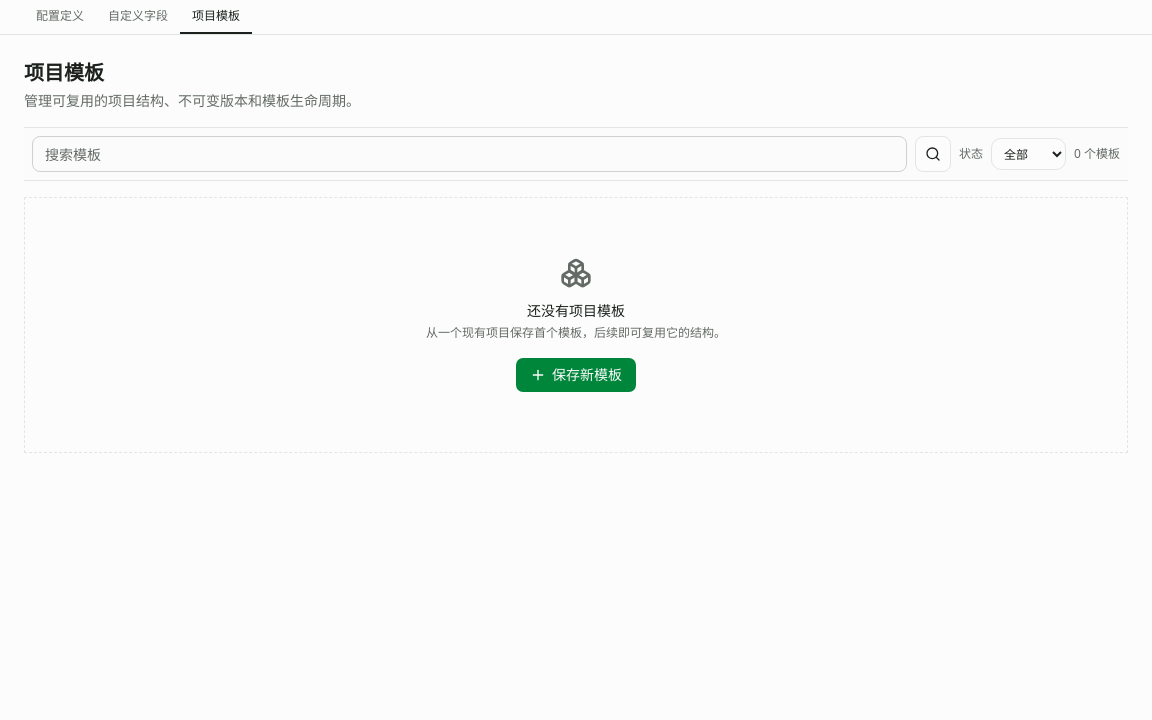
Test: starts the create capture wizard from the real route empty CTA
Click the button "保存新模板".
click(576, 375)  # box [515,357,637,393]
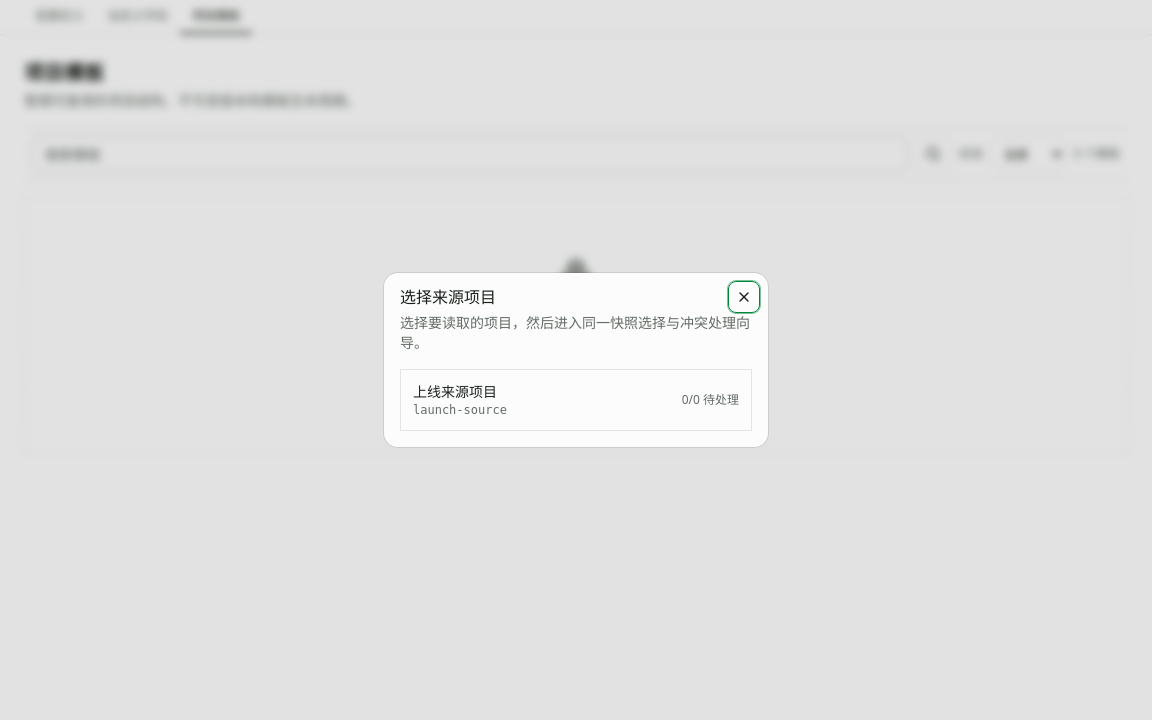
expect the dialog "选择来源项目" is shown: met, box [384,273,768,447]
Click the button "上线来源项目 launch-source 0/0 待处理".
click(455, 392)  # box [401,370,751,430]
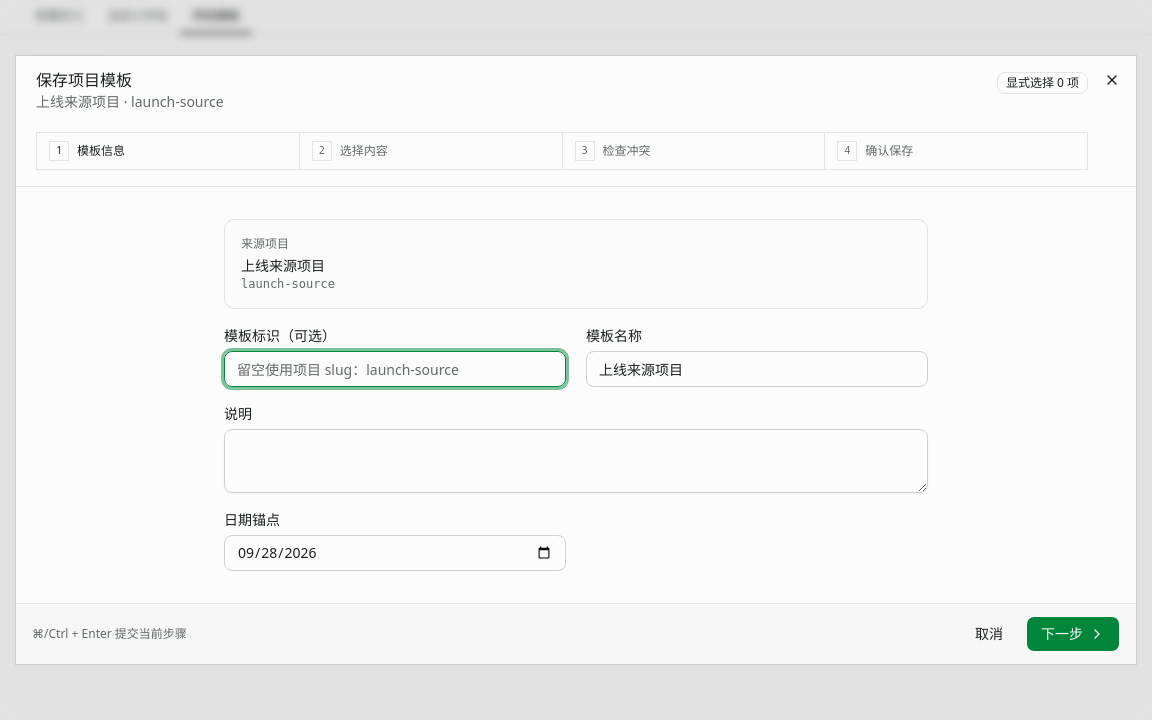
expect the dialog "保存项目模板" is shown: met
